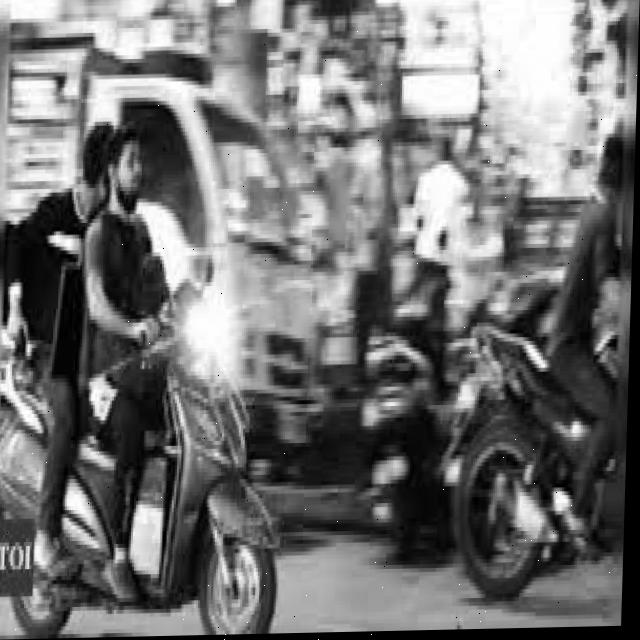without helmet: (106, 116, 152, 236)
